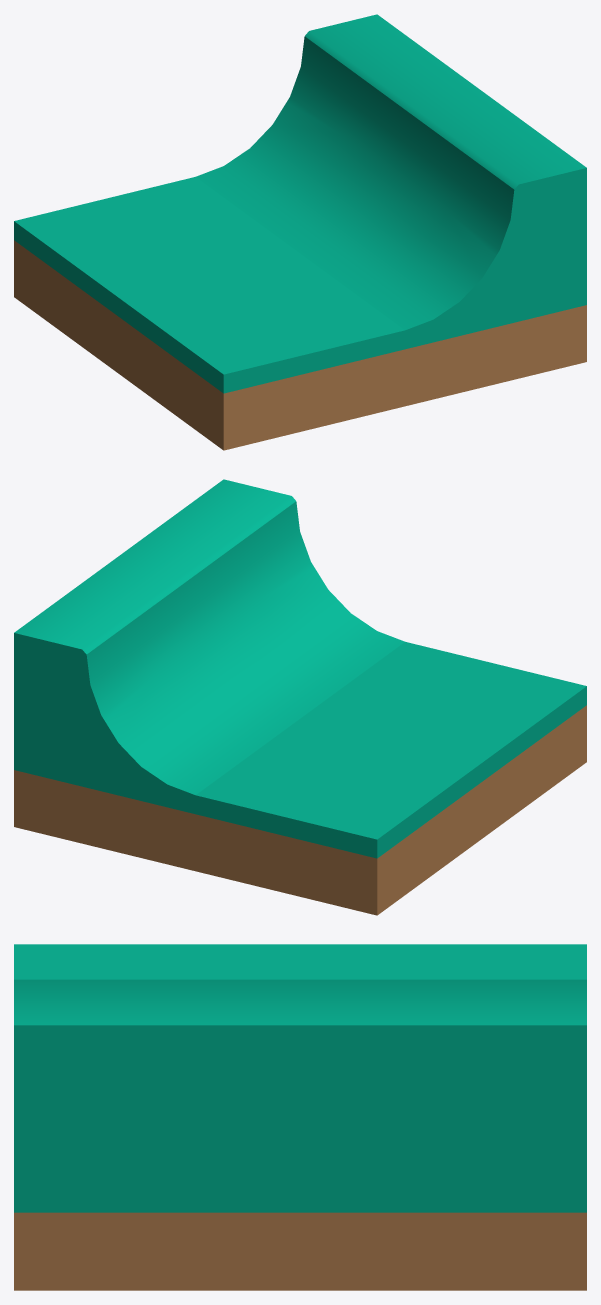
File: platform_ramp.fbx
3 renders of one model, top to bottom at view 1: azimuth 30°, elevation 25°; view 2: azimuth 150°, elevation 25°; view 3: azimuth 270°, elevation 25°, orthographic. The views are drawn at different scales.
Visible parts, largest first — view 1: Boole; view 2: Boole; view 3: Boole.
Part boxes in pixels (x1,y1,x2,y2): Boole: (14,14,586,450); Boole: (14,479,586,915); Boole: (14,944,586,1290).
Bounding box in the file's own units: 1000 × 511 × 1000.
